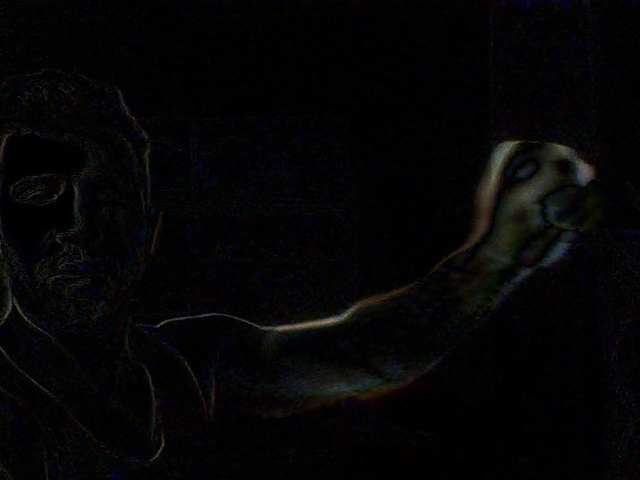hand_fi: (472, 133, 605, 272)
